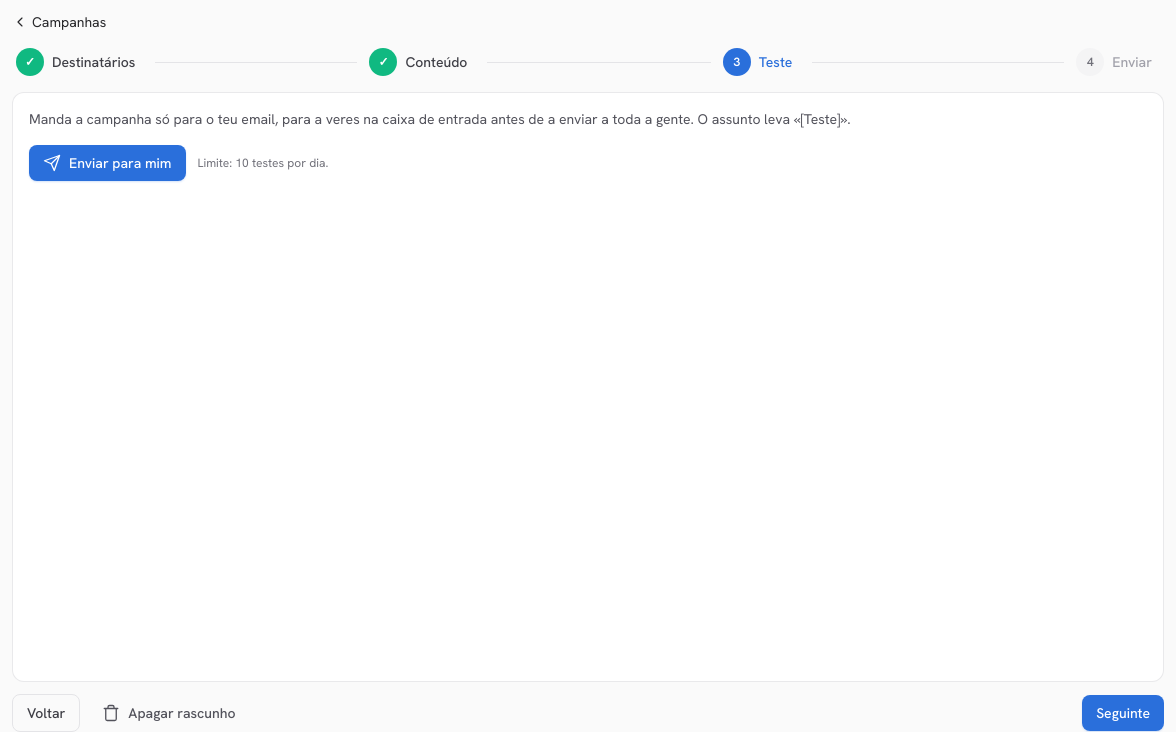
Test: Nova campanha — passo 3, teste › limite diário atingido: mostra o texto PT
The image size is (1176, 732).
Click the button "Enviar para mim": [107, 163] box [29,145,186,181]
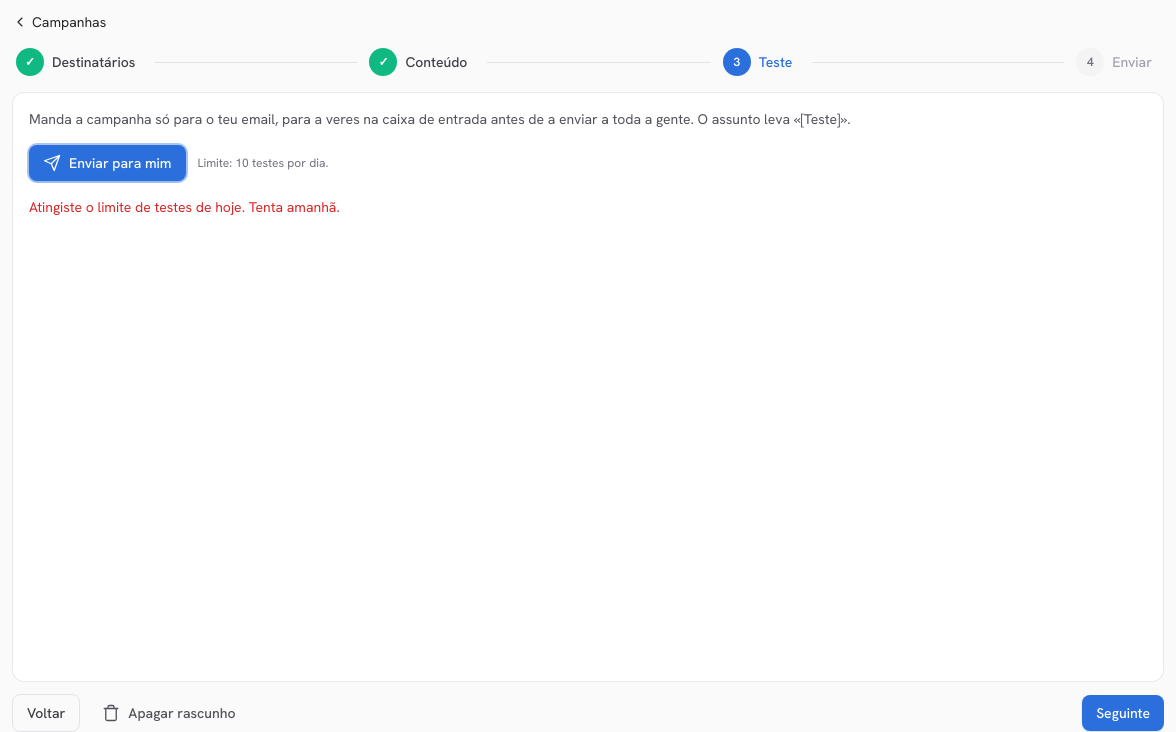
Now the message with test id "campaign-error" shows "limite de testes", box [29,198,340,216]
